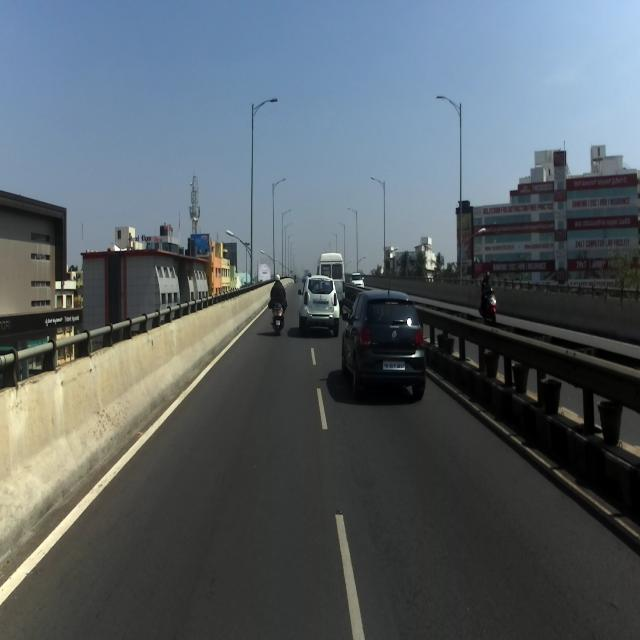car ahead at: (345, 283, 426, 395), (300, 273, 344, 332)
